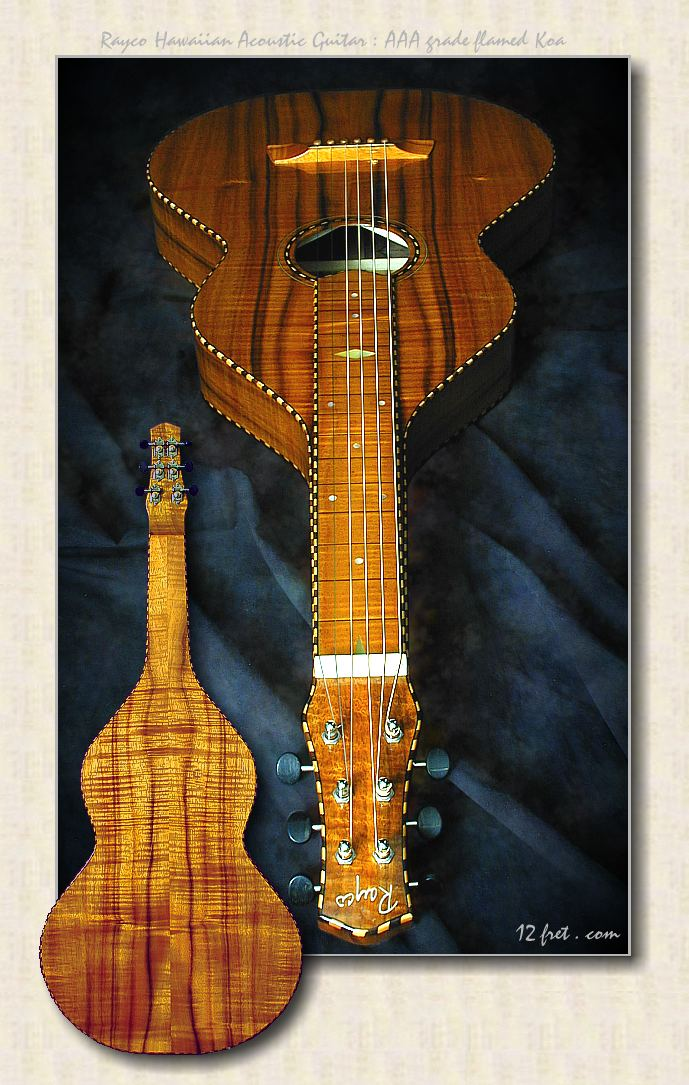guitar: (138, 90, 560, 942), (37, 419, 308, 1059)
